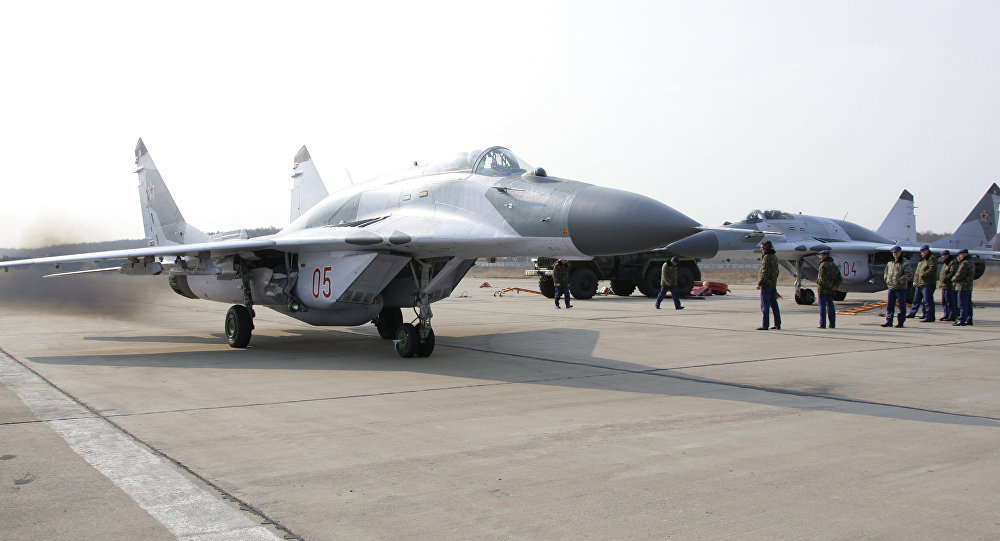Mig-29: (52, 73, 721, 363), (719, 180, 993, 304)
